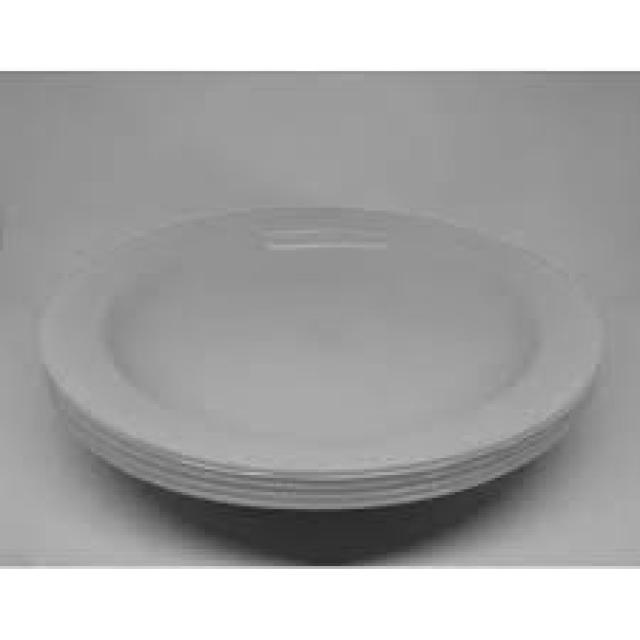dish: (19, 188, 617, 533)
